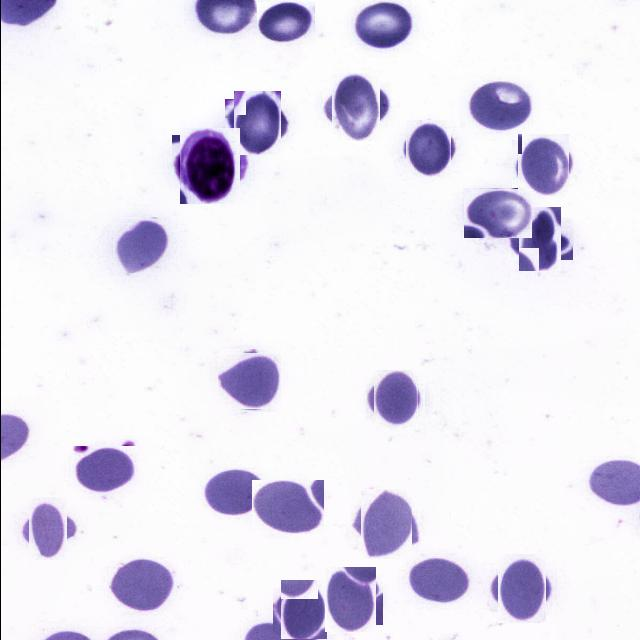leukocyte: (176, 132, 243, 200)
red blood cell: (251, 480, 323, 534), (354, 494, 416, 554), (108, 558, 176, 612), (218, 350, 278, 410), (464, 80, 532, 132), (492, 559, 551, 618), (462, 188, 531, 238), (326, 78, 385, 136), (321, 570, 378, 629), (200, 466, 267, 516), (350, 0, 415, 51), (514, 138, 572, 195), (404, 556, 472, 604), (70, 446, 137, 494), (112, 218, 169, 274), (228, 95, 284, 151), (276, 584, 331, 638), (512, 212, 566, 266), (368, 374, 421, 426), (21, 503, 72, 554), (402, 124, 454, 174), (256, 2, 314, 44)
